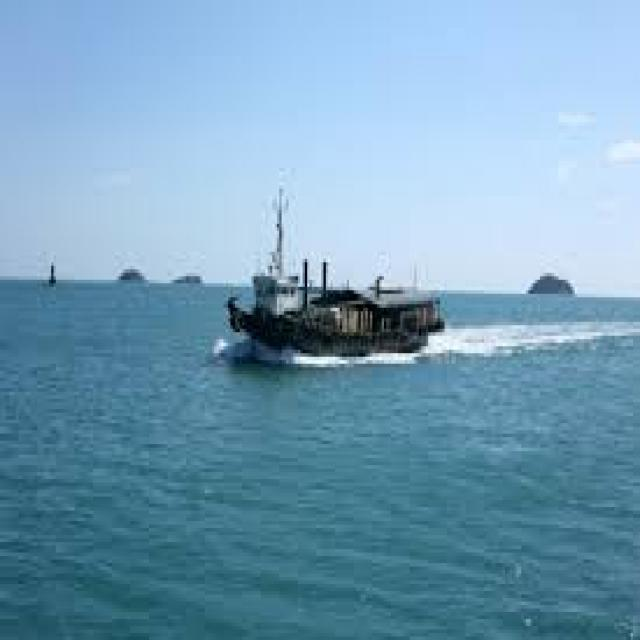Ship: (222, 166, 453, 383)
